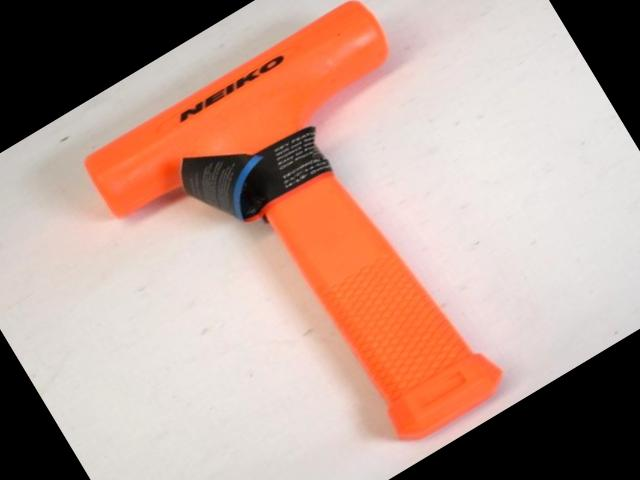hammer: (78, 0, 573, 480)
